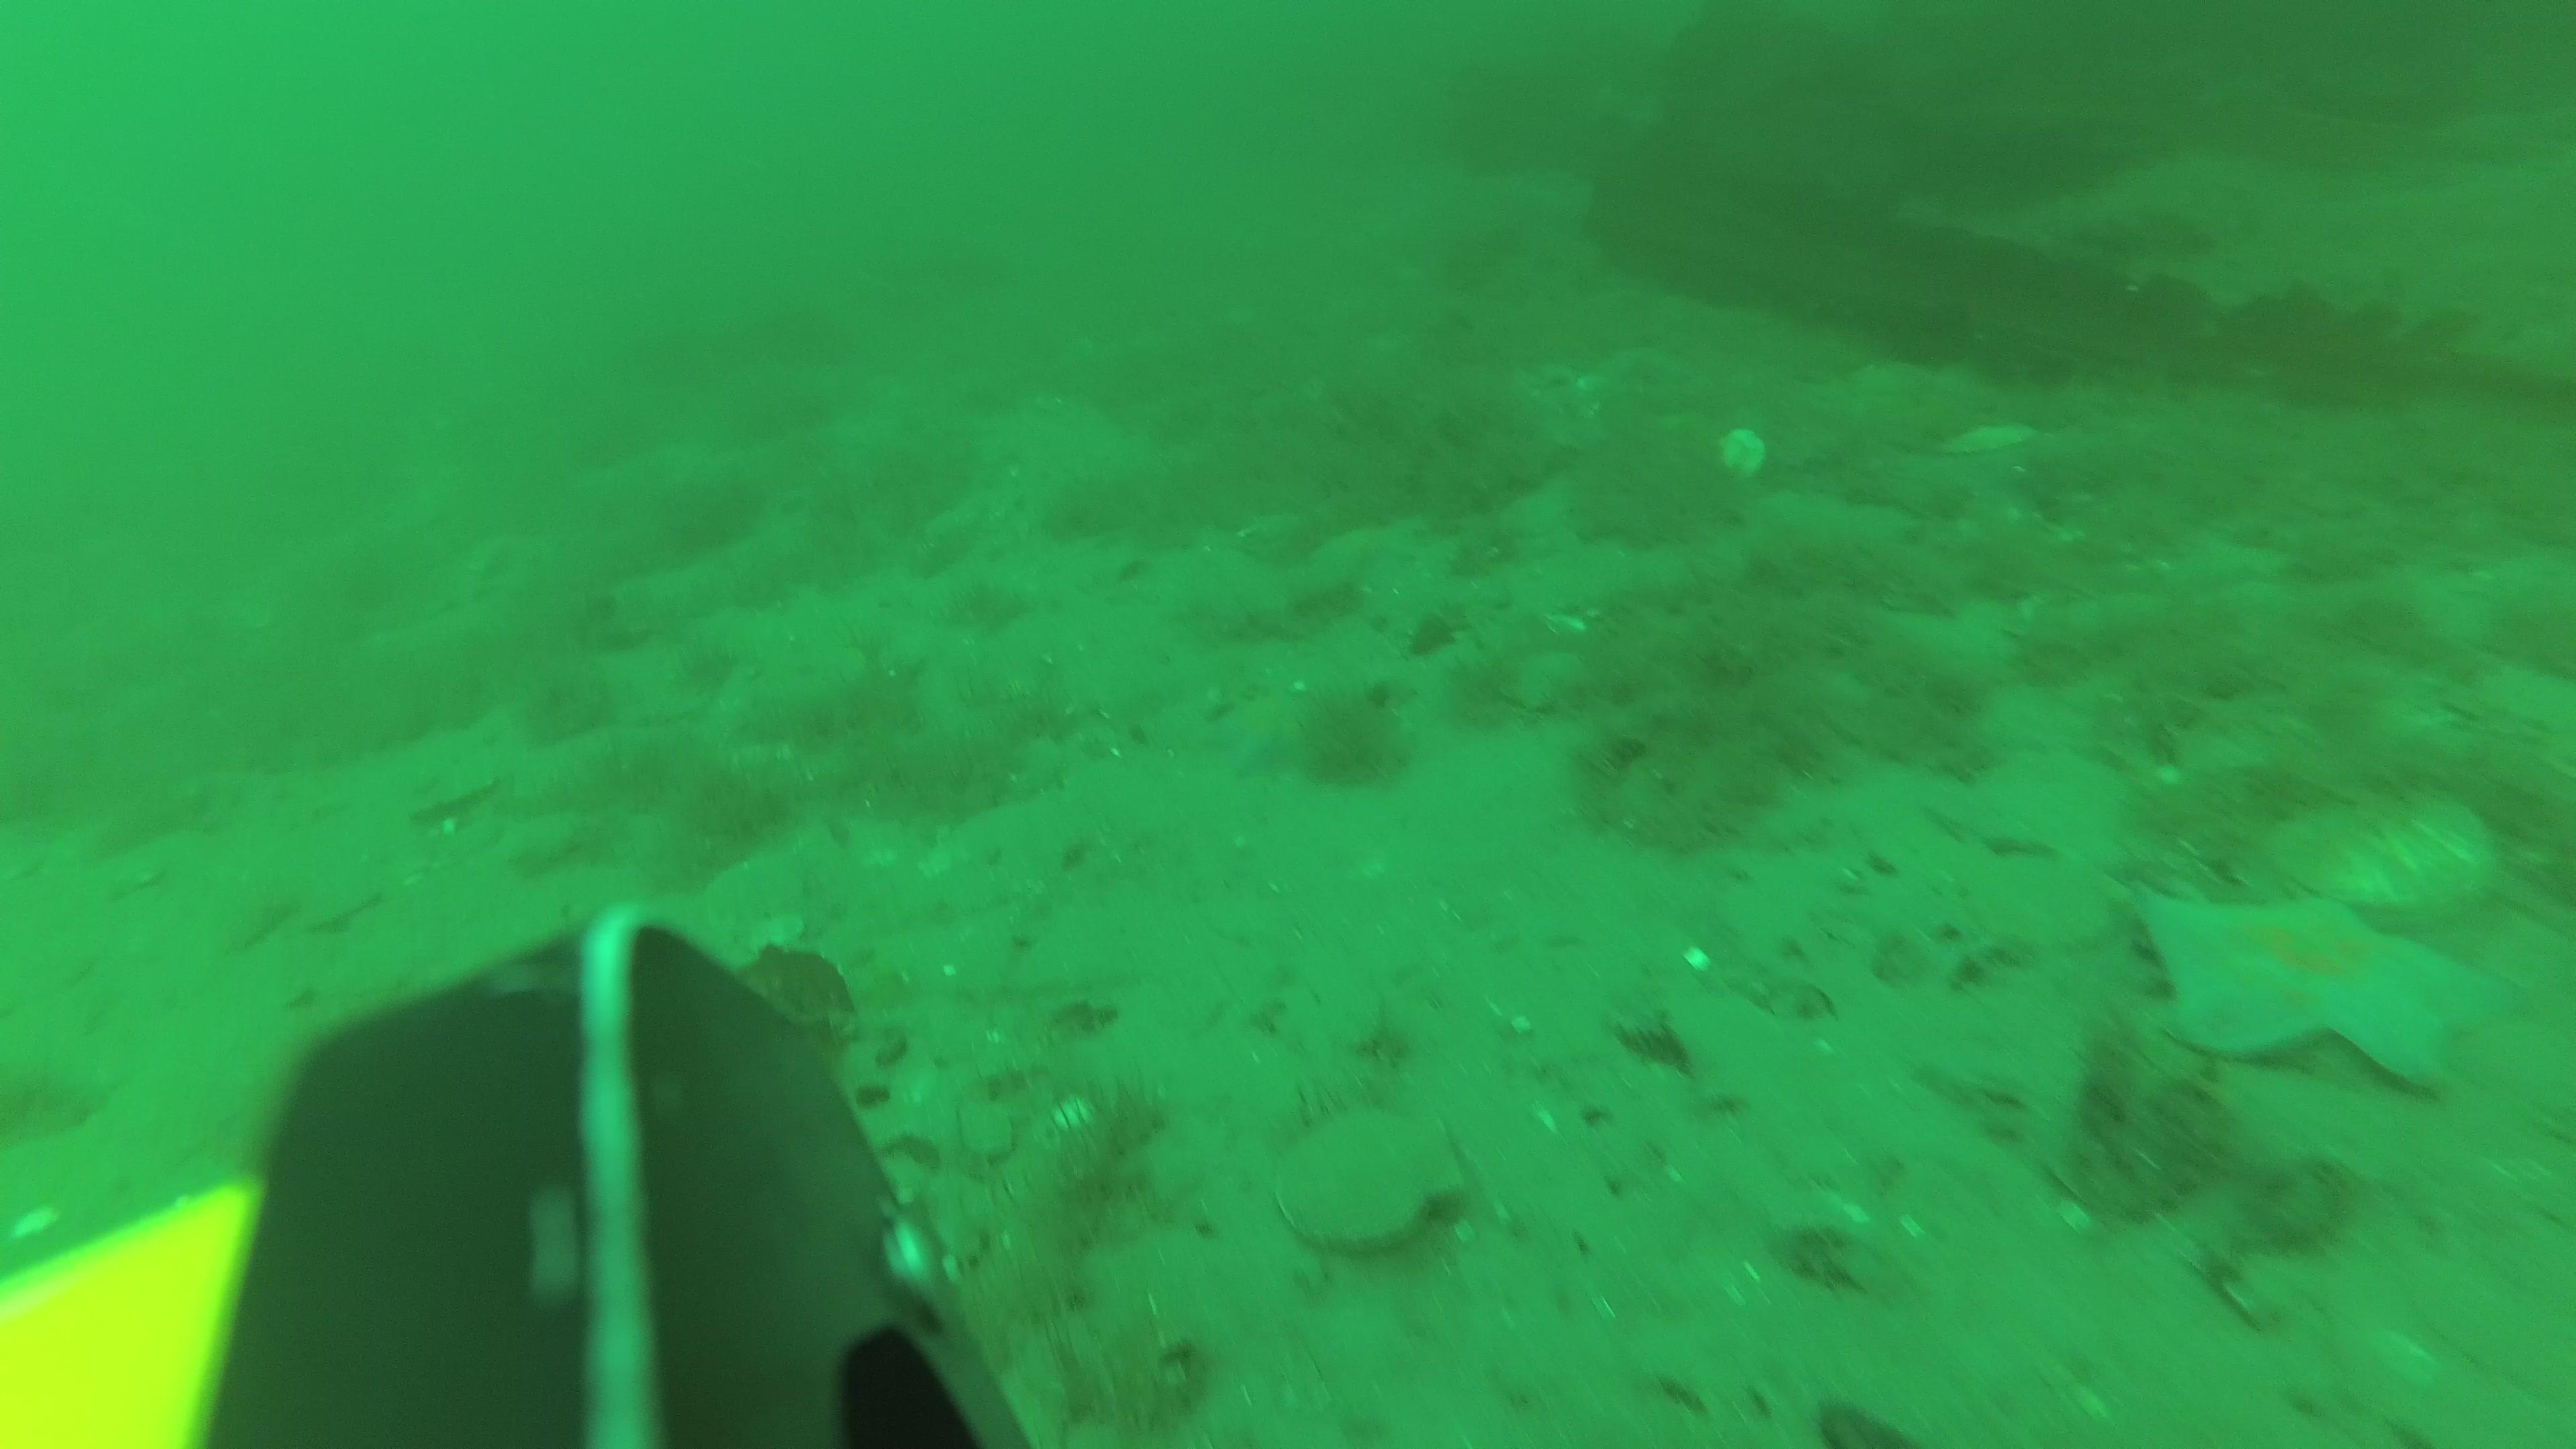scallop: (1276, 1099, 1470, 1246), (2261, 798, 2488, 916), (1491, 646, 1589, 715), (1937, 410, 2042, 460), (1718, 435, 1771, 487)
starfish: (2134, 869, 2480, 1088), (1223, 692, 1348, 770)
